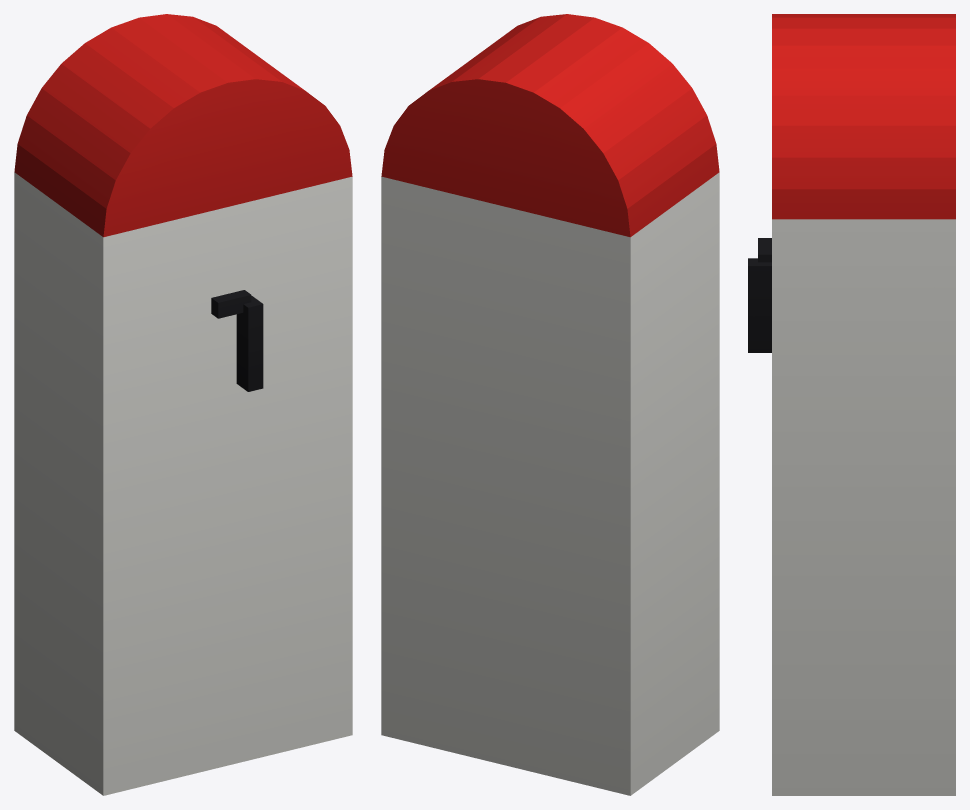
The model's file is Milestone.fbx.
The picture shows the model from 3 angles, left to right: view 1: azimuth 30°, elevation 25°; view 2: azimuth 150°, elevation 25°; view 3: azimuth 270°, elevation 25°; orthographic projection. The views are drawn at different scales.
Parts seen in each view (by area): view 1: Milestone_LOD0; view 2: Milestone_LOD0; view 3: Milestone_LOD0.
Boxes of the visible parts, bbox=[...] form: Milestone_LOD0: bbox=[14, 14, 352, 795]; Milestone_LOD0: bbox=[381, 14, 719, 795]; Milestone_LOD0: bbox=[748, 14, 955, 795].
Size of what is drawn, in the model's own units: 0.42 by 1.1 by 0.294.
Materials: 1 (1 with a texture image).
